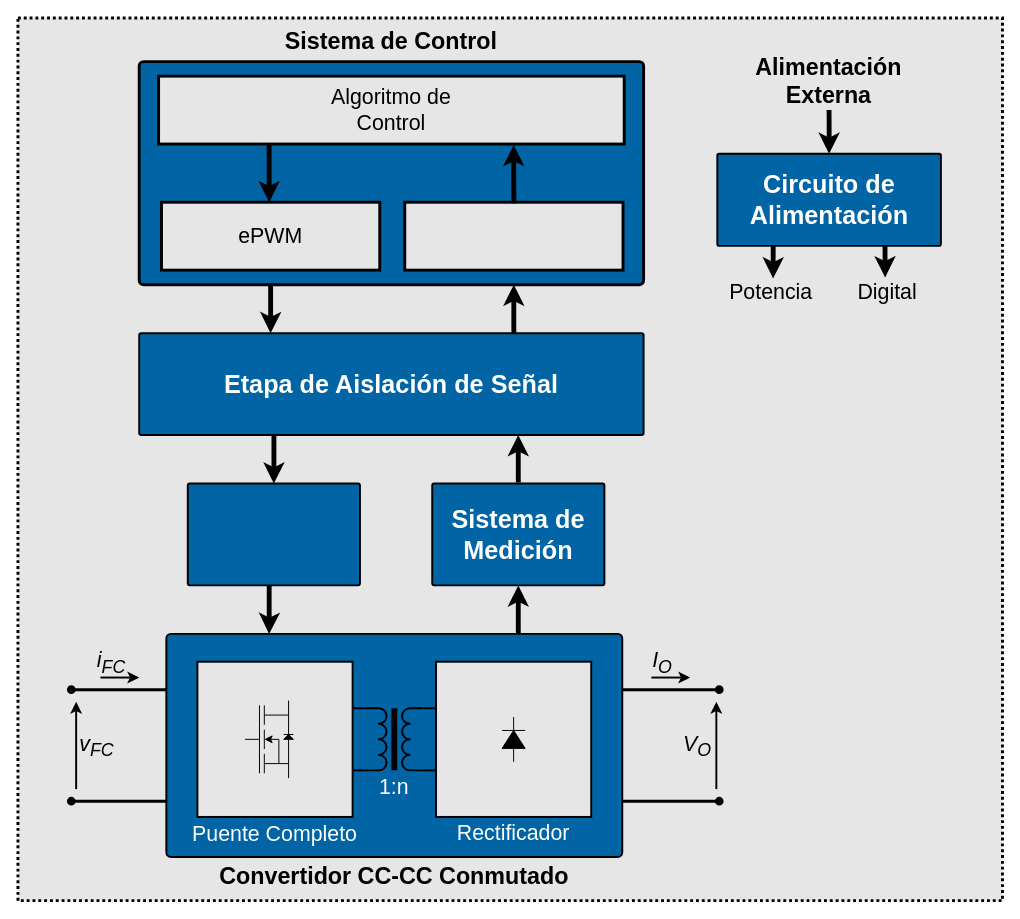
Image size: 1020x919. Some labels were removed from this diagram. Each missing label, with the centre of its shape:
Circuito Driver: the point at 273,534
Interfaz de Datos: the point at 513,235
